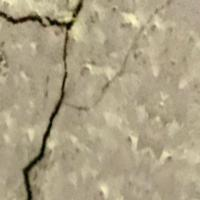crack: (2, 0, 86, 199)
